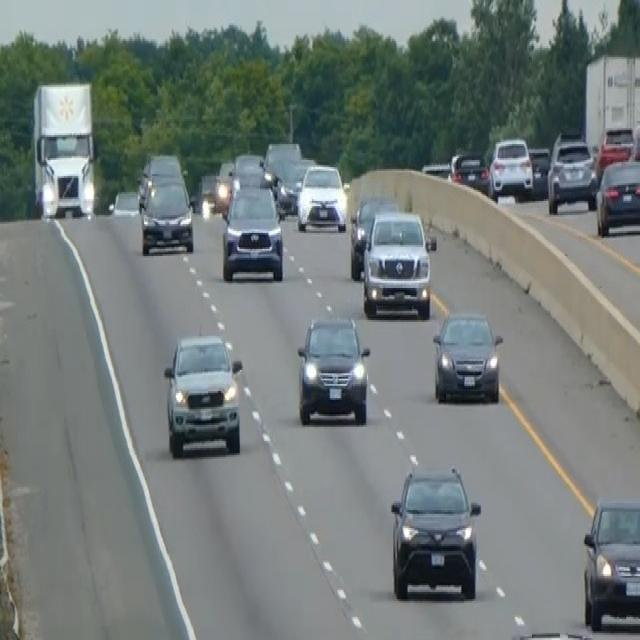car: (389, 462, 482, 601), (295, 311, 371, 425), (361, 206, 435, 318), (581, 493, 639, 631), (431, 307, 503, 403), (220, 183, 284, 283), (139, 174, 194, 254), (348, 192, 398, 279), (546, 134, 598, 214), (296, 160, 347, 233), (595, 156, 639, 236), (488, 135, 533, 201), (136, 151, 183, 208), (275, 157, 315, 215), (595, 123, 634, 181), (449, 147, 490, 195), (263, 137, 301, 176), (231, 150, 267, 190), (490, 628, 619, 638), (527, 144, 550, 196), (196, 171, 219, 217), (215, 158, 235, 208)
jeep: (162, 329, 244, 459)
lorry: (30, 78, 97, 220)
